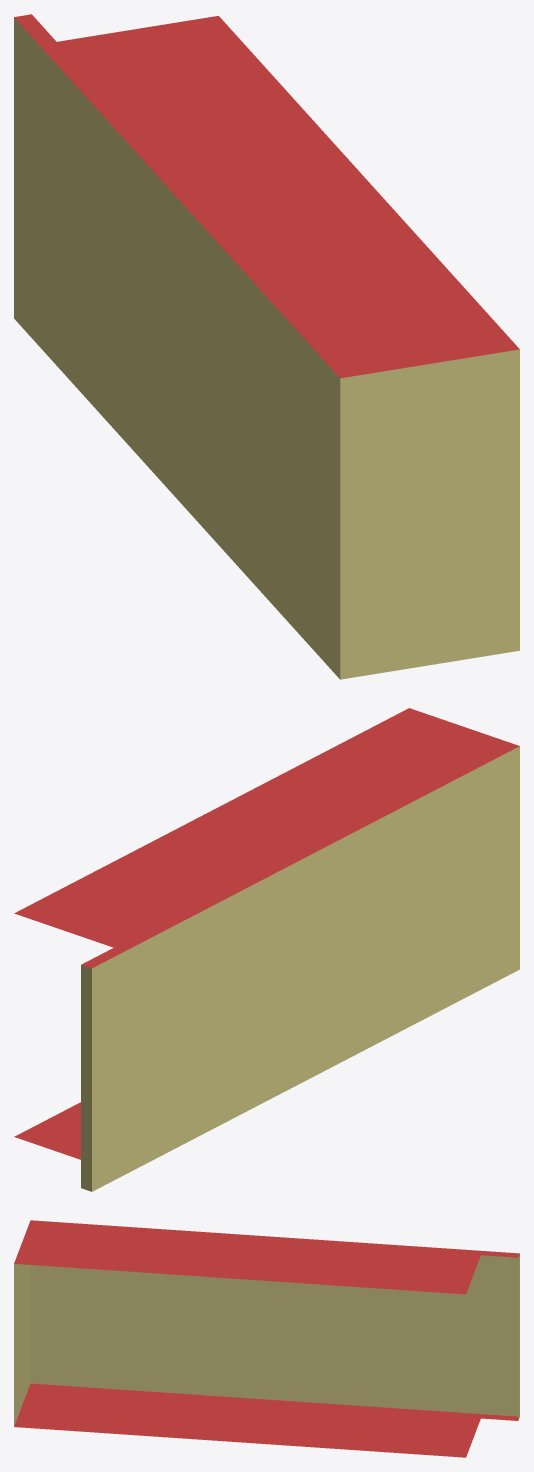
The picture shows the model from 3 angles, top to bottom: view 1: azimuth 30°, elevation 25°; view 2: azimuth 150°, elevation 25°; view 3: azimuth 270°, elevation 25°; orthographic projection. The views are drawn at different scales.
Size of the model in its own units: 5.82 by 16.78 by 5.97.
